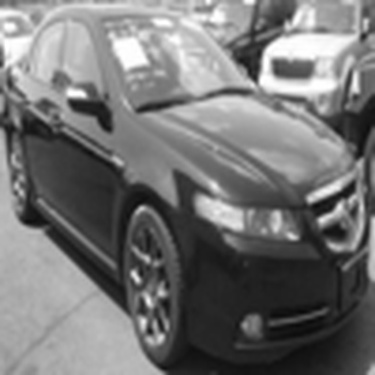car: (1, 2, 372, 370), (255, 2, 372, 125), (206, 4, 294, 82), (1, 1, 43, 81)
